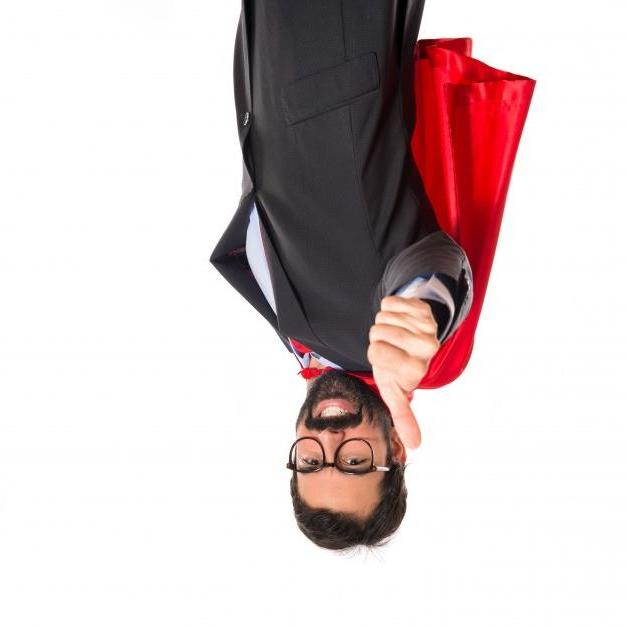thumbsdown: (367, 296, 441, 450)
